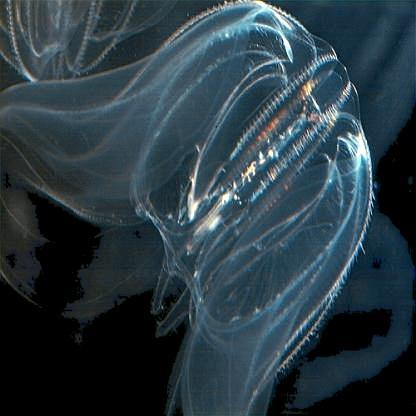Comb: (6, 4, 372, 410), (5, 4, 179, 85)
